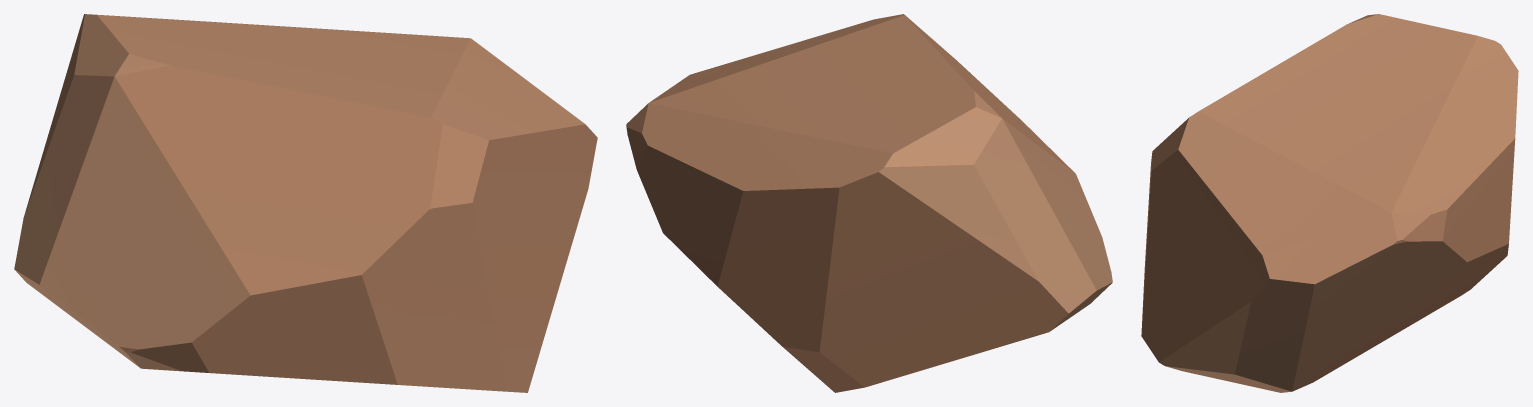
The model's file is Rock_4.fbx.
The picture shows the model from 3 angles, left to right: view 1: azimuth 30°, elevation 25°; view 2: azimuth 150°, elevation 25°; view 3: azimuth 270°, elevation 25°; orthographic projection. The views are drawn at different scales.
Visible parts, largest first — view 1: Rock.004; view 2: Rock.004; view 3: Rock.004.
Boxes of the visible parts, bbox=[...] form: Rock.004: bbox=[14, 14, 597, 392]; Rock.004: bbox=[626, 14, 1112, 392]; Rock.004: bbox=[1141, 14, 1518, 392].
Size of the model in its own units: 978 by 769 by 593.
